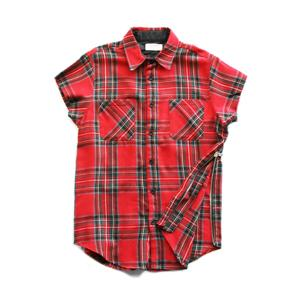C_T-shirt: (51, 16, 253, 277)
